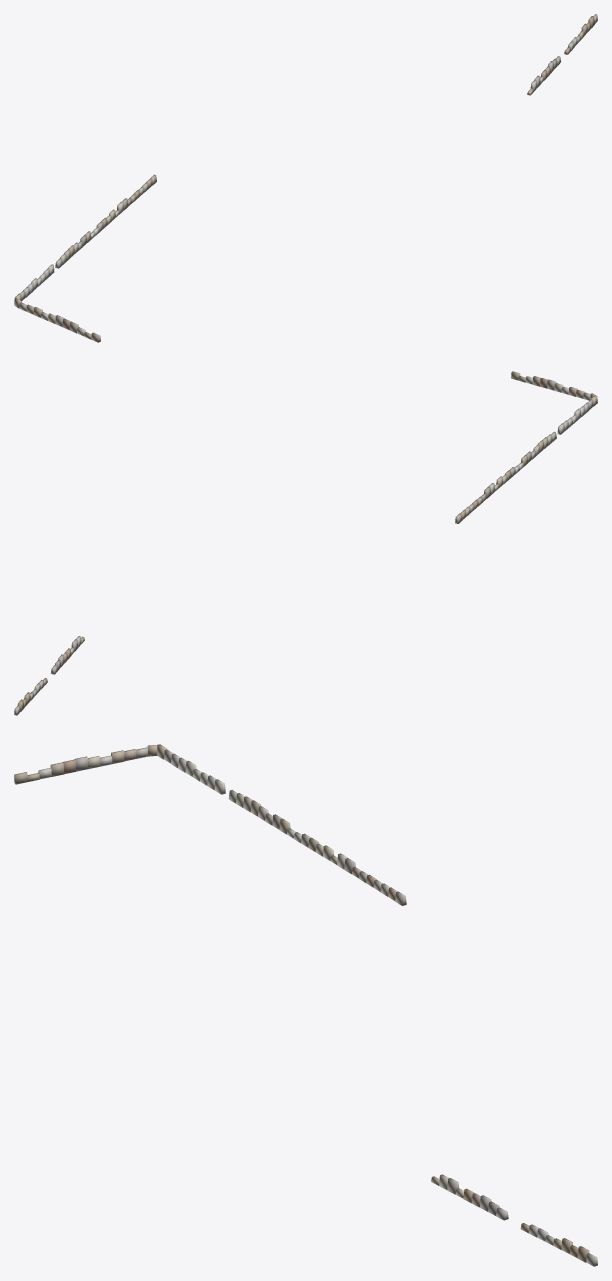
The model's file is farm_8_20_collision.glb.
3 renders of one model, top to bottom at view 1: azimuth 30°, elevation 25°; view 2: azimuth 210°, elevation 25°; view 3: azimuth 270°, elevation 25°, orthographic. The views are drawn at different scales.
Visible parts, largest first — view 1: geometry_0; view 2: geometry_0; view 3: geometry_0.
Part boxes in pixels (x1=…): geometry_0: x1=14, y1=14, x2=597, y2=342; geometry_0: x1=14, y1=371, x2=597, y2=715; geometry_0: x1=14, y1=744, x2=597, y2=1266.
Bounding box in the file's own units: 143 × 4.42 × 71.61.
